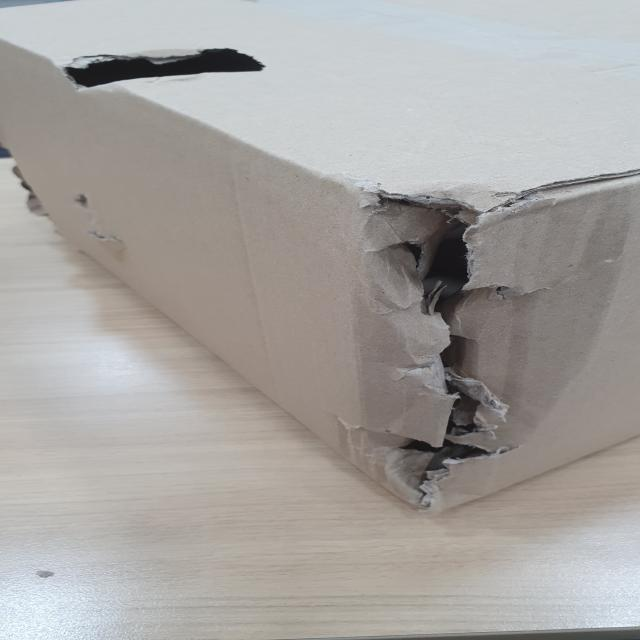hole: (358, 182, 522, 510), (56, 44, 275, 95)
